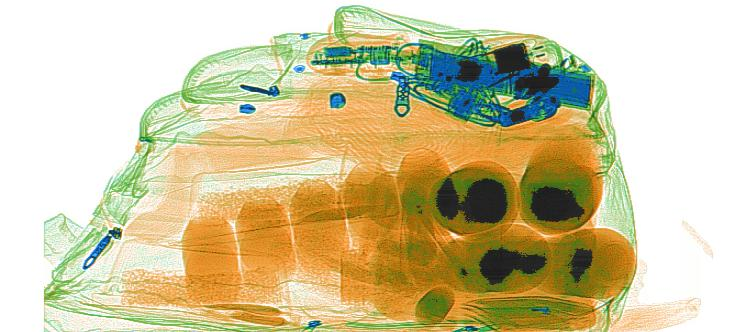battery: (413, 37, 595, 110), (496, 102, 539, 128)
